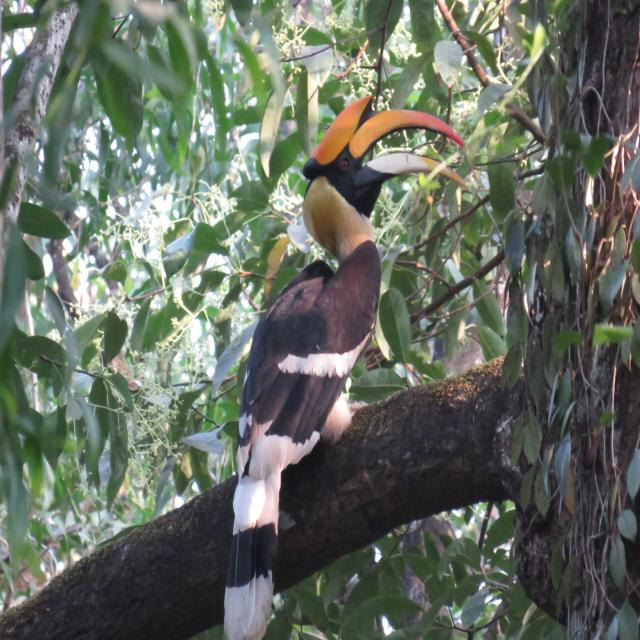Hornbill: (220, 86, 474, 640)
